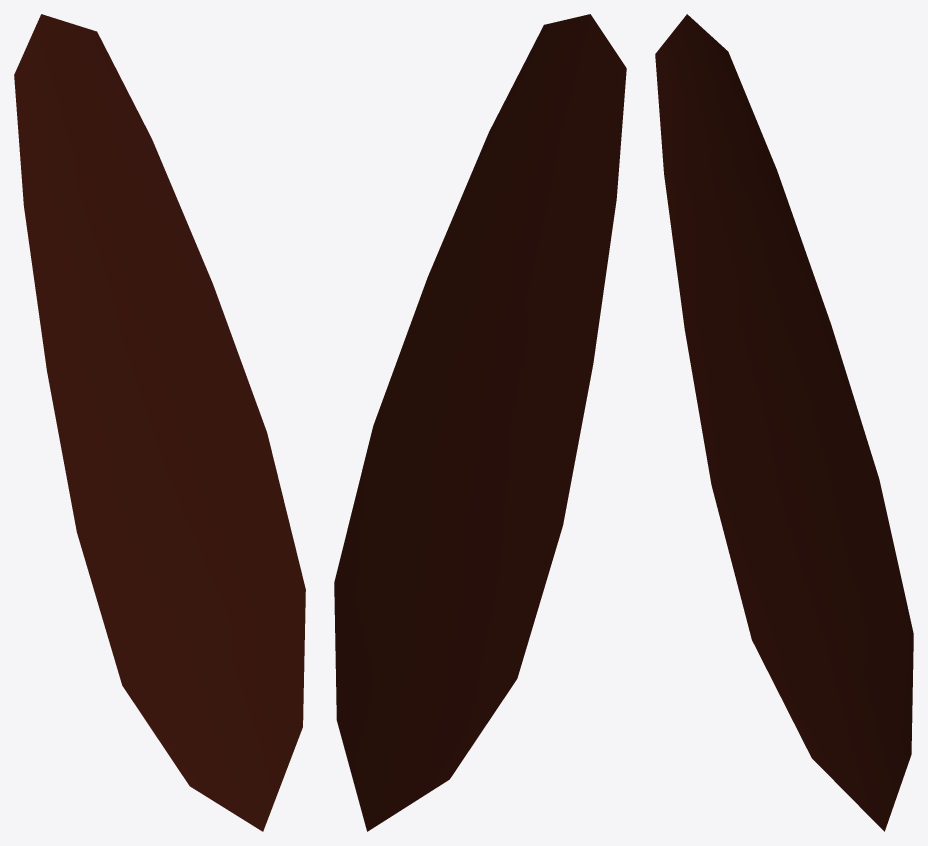
Rendered from pheasant_feather_flight_secondary_035.obj.
3 renders of one model, left to right at view 1: azimuth 30°, elevation 25°; view 2: azimuth 150°, elevation 25°; view 3: azimuth 330°, elevation 25°, orthographic. The views are drawn at different scales.
Visible parts, largest first — view 1: feather_flight_secondary_035; view 2: feather_flight_secondary_035; view 3: feather_flight_secondary_035.
Part boxes in pixels (left/top/right/bottom): feather_flight_secondary_035: left=14, top=14, right=305, bottom=831; feather_flight_secondary_035: left=334, top=14, right=626, bottom=831; feather_flight_secondary_035: left=655, top=14, right=913, bottom=831.
Size of the model in its own units: 0.0233 by 0.0664 by 0.000764.
